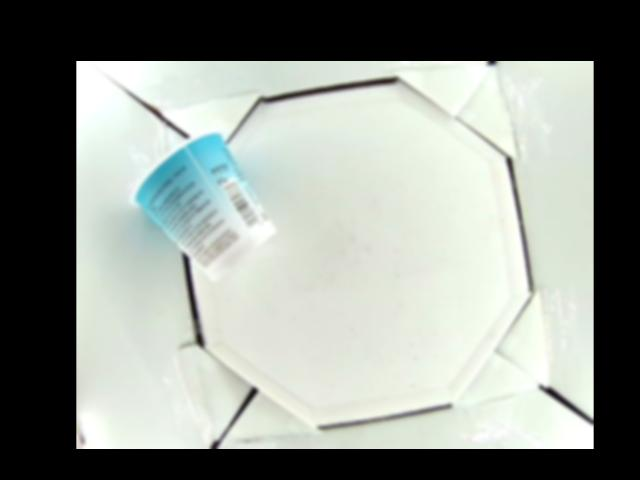Cup: (131, 132, 274, 279)
